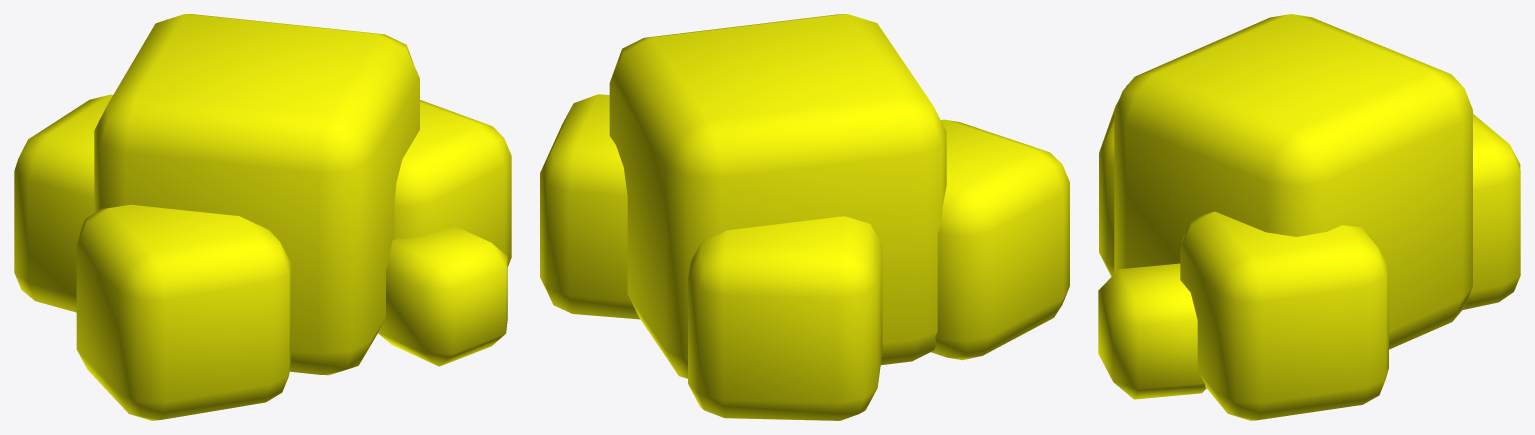
Rendered from kaykit-bush-2-e-color-1.glb.
3 views of the same model, side by side, from view 1: azimuth 30°, elevation 25°; view 2: azimuth 150°, elevation 25°; view 3: azimuth 270°, elevation 25° (orthographic). The views are drawn at different scales.
Visible parts, largest first — view 1: Bush_2_E_Color1; view 2: Bush_2_E_Color1; view 3: Bush_2_E_Color1.
Part boxes in pixels (x1,y1,x2,y2): Bush_2_E_Color1: (14, 14, 511, 420); Bush_2_E_Color1: (540, 14, 1069, 420); Bush_2_E_Color1: (1098, 14, 1520, 420).
Size of the model in its own units: 2.35 by 1.33 by 2.01.
